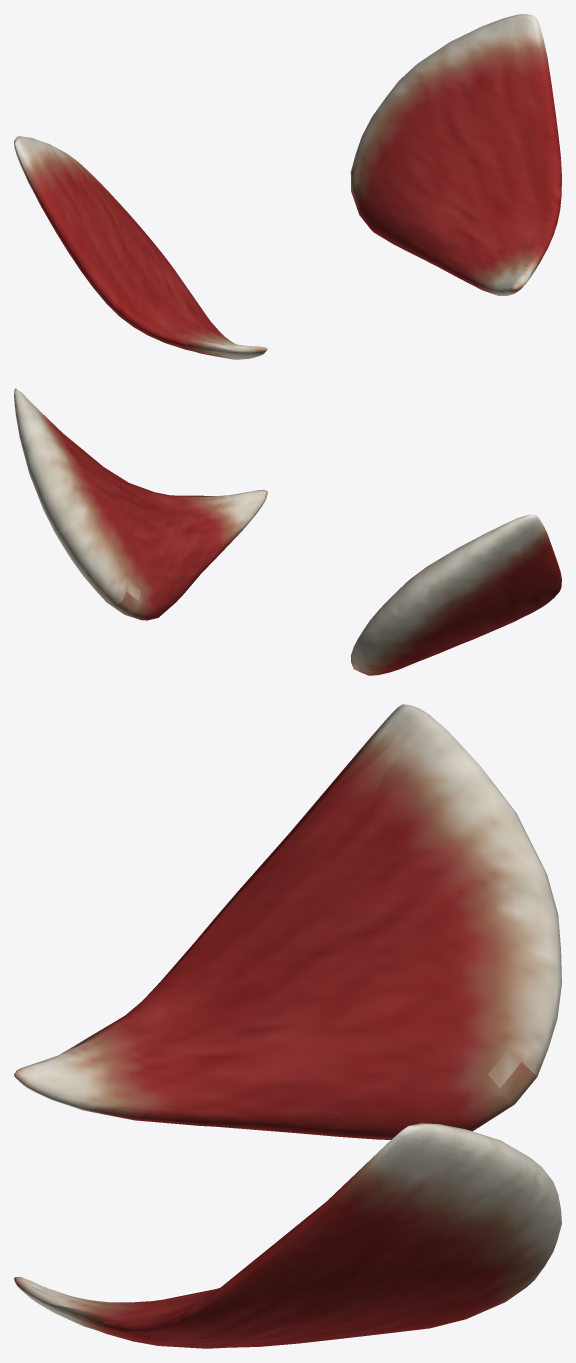
File: Masseter.fbx
The picture shows the model from 3 angles, top to bottom: view 1: azimuth 30°, elevation 25°; view 2: azimuth 150°, elevation 25°; view 3: azimuth 270°, elevation 25°; orthographic projection. The views are drawn at different scales.
Parts seen in each view (by area): view 1: Masseter low, Masseter, Masseter high; view 2: Masseter, Masseter low, Masseter high; view 3: Masseter, Masseter low, Masseter high.
Part boxes in pixels (left/top/right/bottom): Masseter low: left=17, top=14, right=561, bottom=356; Masseter: left=14, top=14, right=561, bottom=359; Masseter high: left=15, top=15, right=558, bottom=357; Masseter: left=14, top=388, right=561, bottom=675; Masseter low: left=17, top=391, right=561, bottom=674; Masseter high: left=15, top=391, right=557, bottom=665; Masseter: left=14, top=704, right=561, bottom=1348; Masseter low: left=25, top=709, right=561, bottom=1346; Masseter high: left=15, top=707, right=550, bottom=1347.
Bounding box in the file's own units: 6.36 × 2.21 × 3.44.
1 material, 1 textured.
